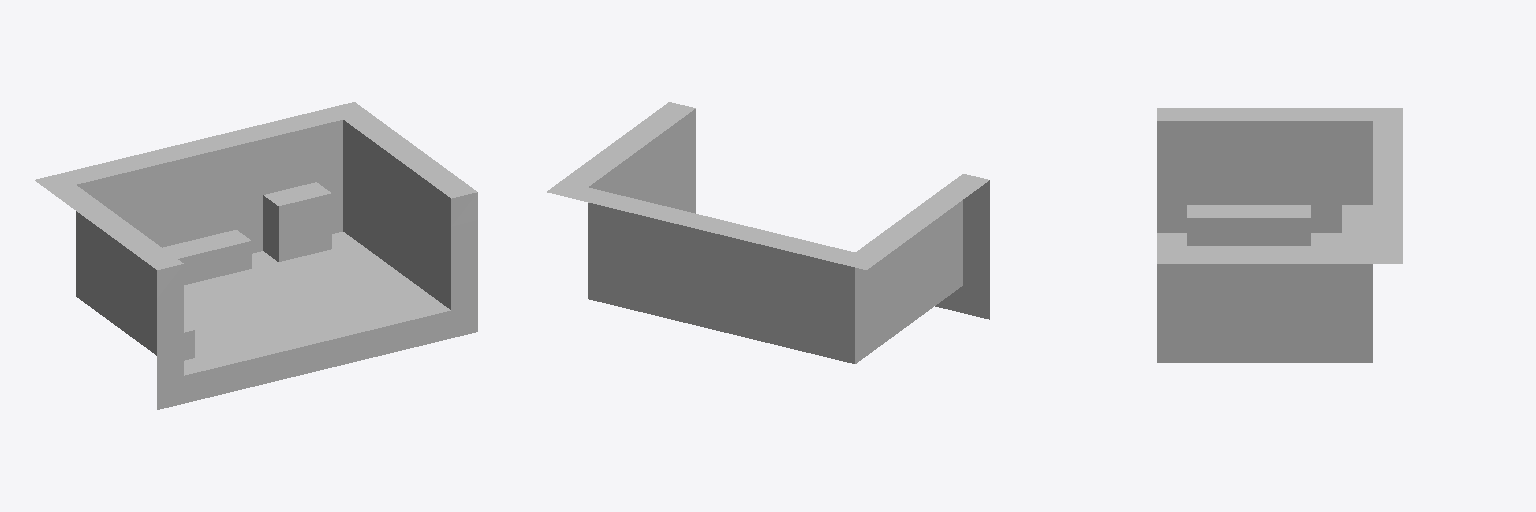
Rendered from TestKitchen.obj.
3 renders of one model, left to right at view 1: azimuth 30°, elevation 25°; view 2: azimuth 150°, elevation 25°; view 3: azimuth 270°, elevation 25°, orthographic.
Visible parts, largest first — view 1: Default; view 2: Default; view 3: Default.
Boxes of the visible parts, <box> form: Default: <box>35,102,477,409</box>; Default: <box>547,102,989,363</box>; Default: <box>1157,108,1402,362</box>.
Size of the model in its own units: 12 by 5 by 8.